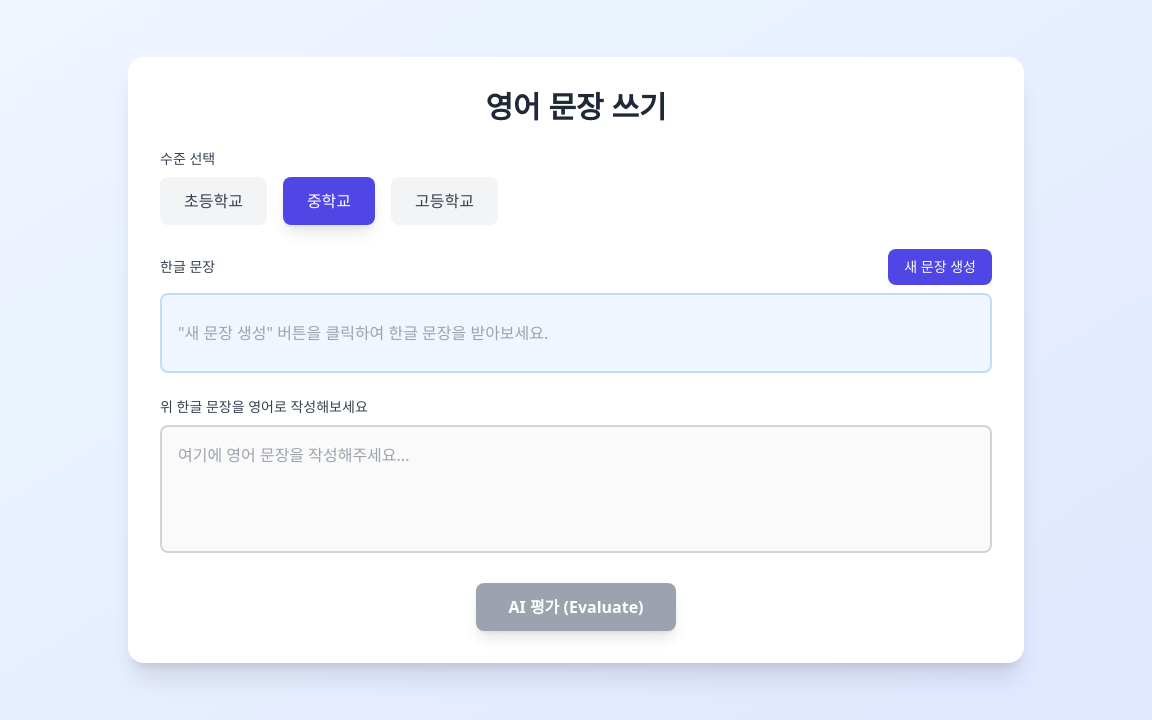
Test case: SentenceWritingPage › 한글 문장 생성 › 문장 생성 중에는 버튼이 비활성화되고 로딩 메시지가 표시된다
Step 1. Click the button "새 문장 생성" → point(940, 267), box [888,249,992,285]
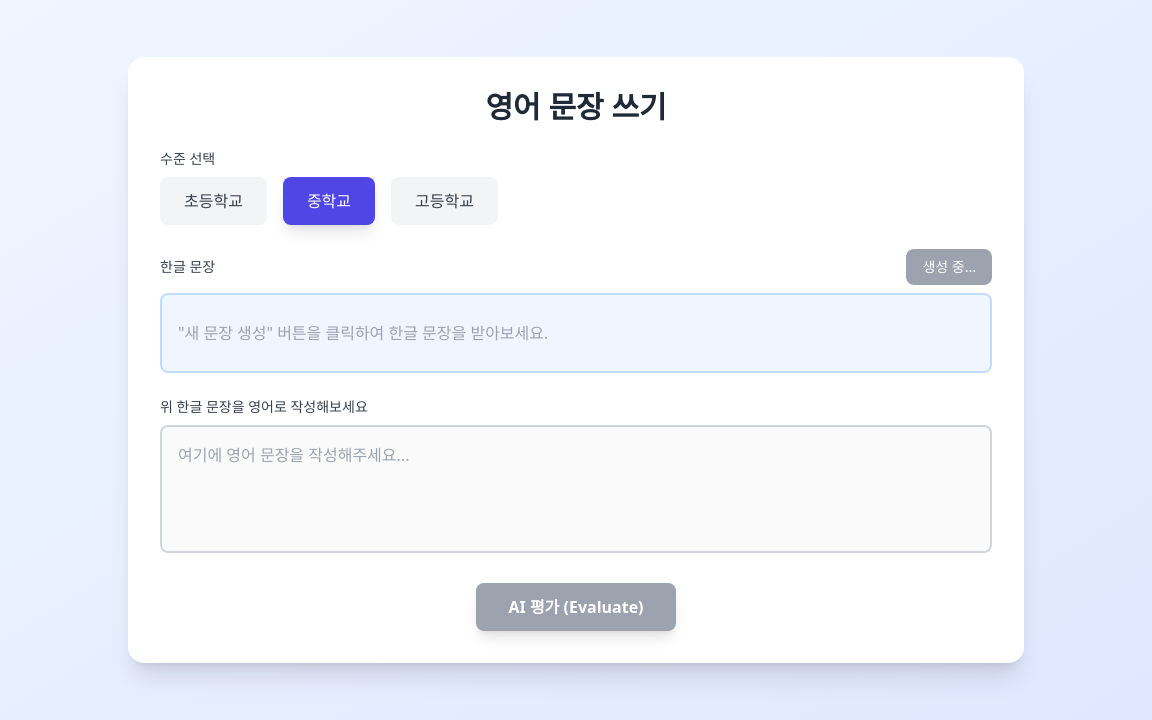
Now the button named "새 문장 생성" is disabled, box [906,249,992,285]
